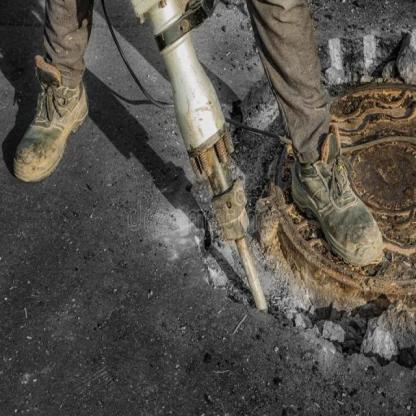bota: (288, 122, 388, 270), (8, 52, 94, 186)
